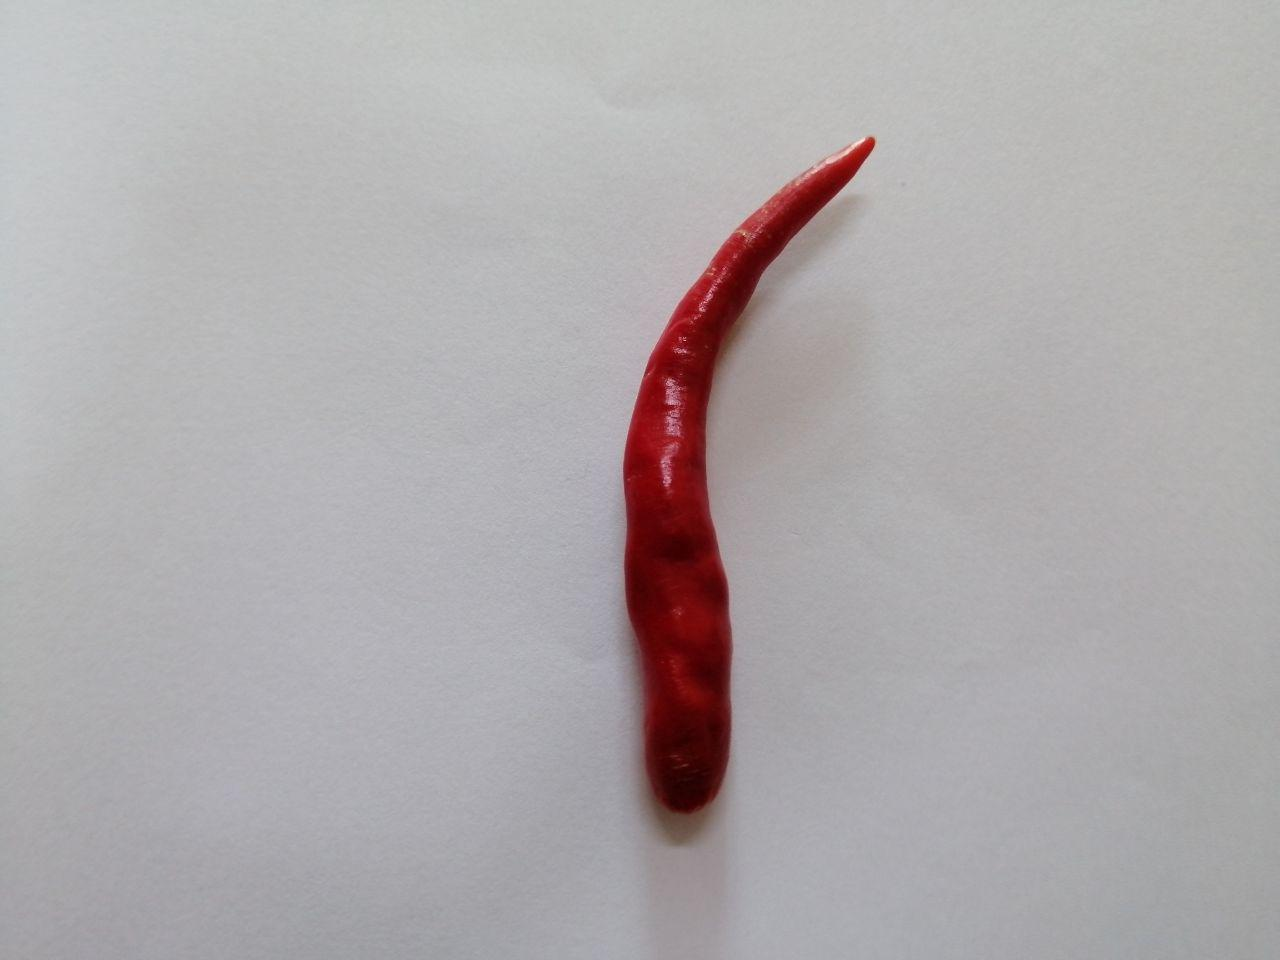lada merah: (605, 128, 888, 834)
